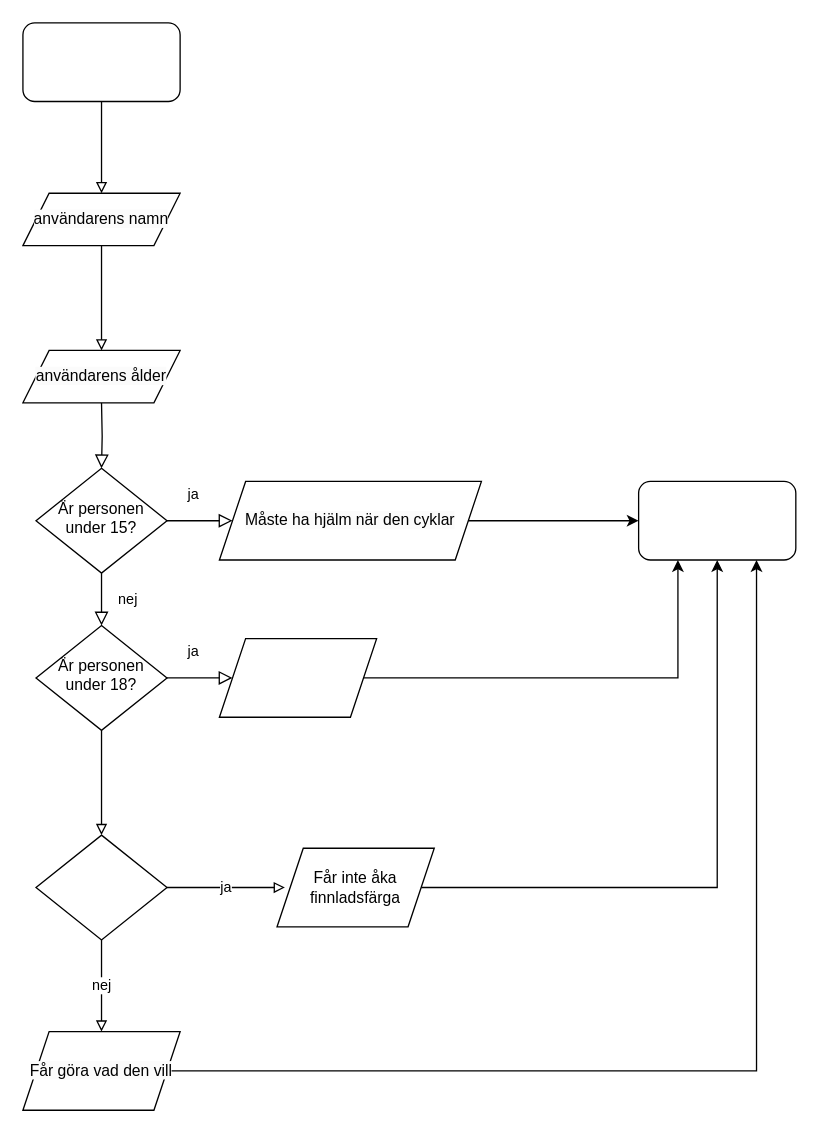
This 819x1133 diagram has some shape labels left out. The shapes that lost their labels are listed below. From the top down, each one's centre as x and y in pixels, then its label:
At (x=101, y=62): "start".
At (x=716, y=520): "end".
At (x=297, y=677): "Får inte rösta".
At (x=101, y=887): "Är personen under 23?".
